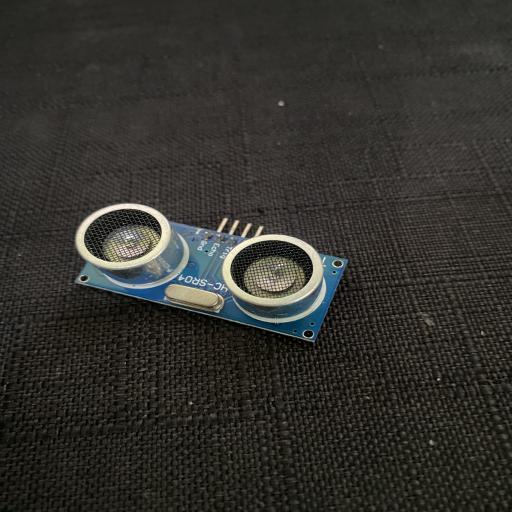Ultrasonic Sensor: (74, 202, 348, 344)
